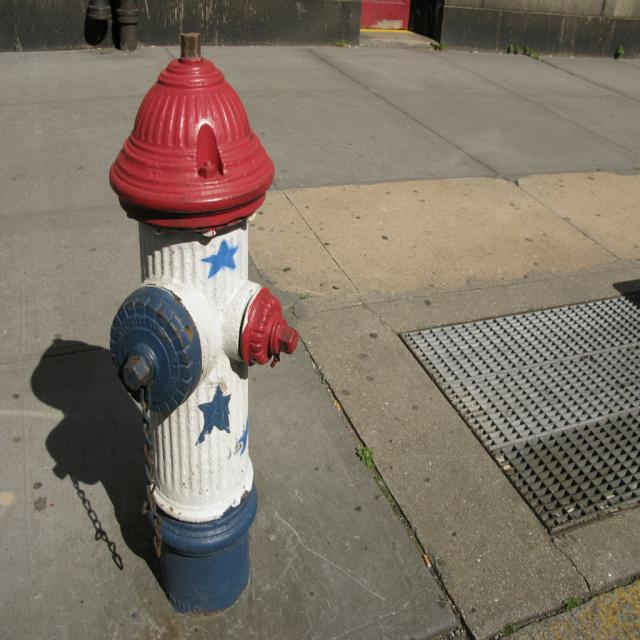fire_hydrant: (108, 33, 299, 615)
